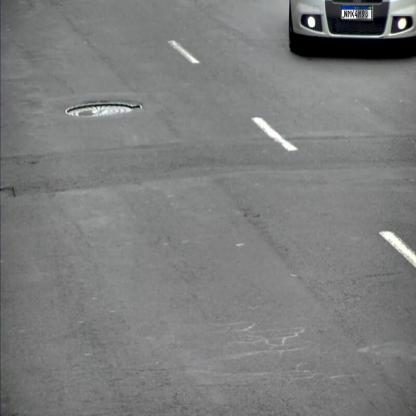PlacaM: (341, 6, 372, 20)
